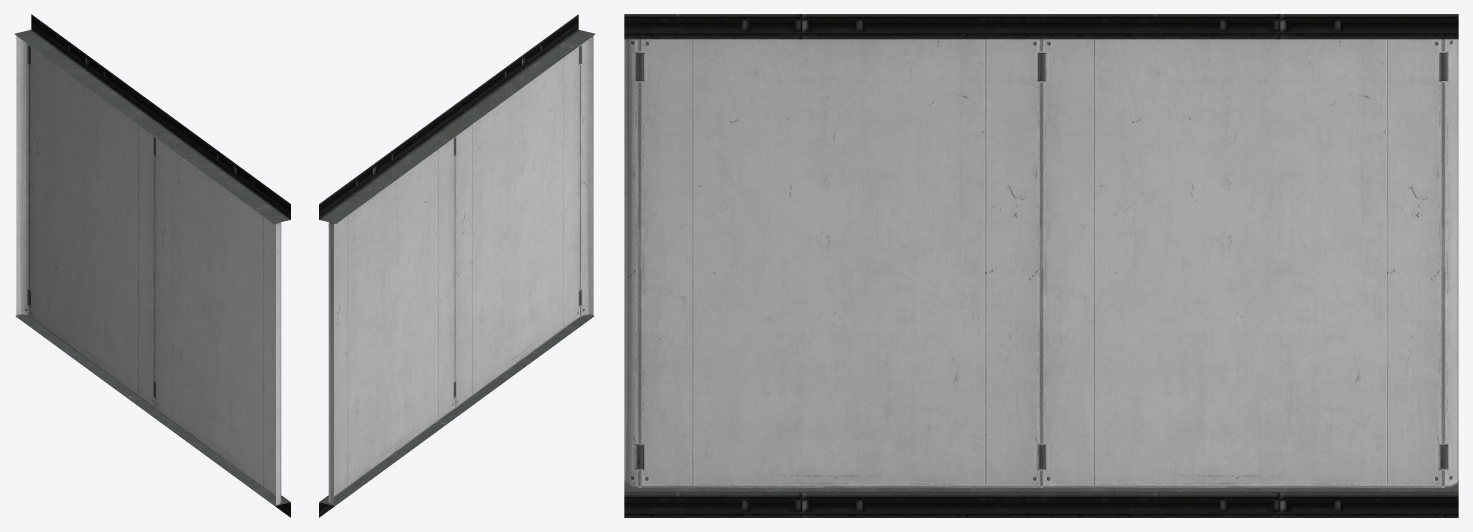
File: Neon_Wall_6x4_01B.FBX
The picture shows the model from 3 angles, left to right: view 1: azimuth 30°, elevation 25°; view 2: azimuth 150°, elevation 25°; view 3: azimuth 270°, elevation 25°; orthographic projection. The views are drawn at different scales.
Parts seen in each view (by area): view 1: Neon_Wall_6x4_01B; view 2: Neon_Wall_6x4_01B; view 3: Neon_Wall_6x4_01B.
Part boxes in pixels (x1,y1,x2,y2): Neon_Wall_6x4_01B: (14, 14, 290, 517); Neon_Wall_6x4_01B: (319, 14, 595, 517); Neon_Wall_6x4_01B: (624, 14, 1458, 517).
Size of the model in its own units: 0.2298 by 4 by 6.
